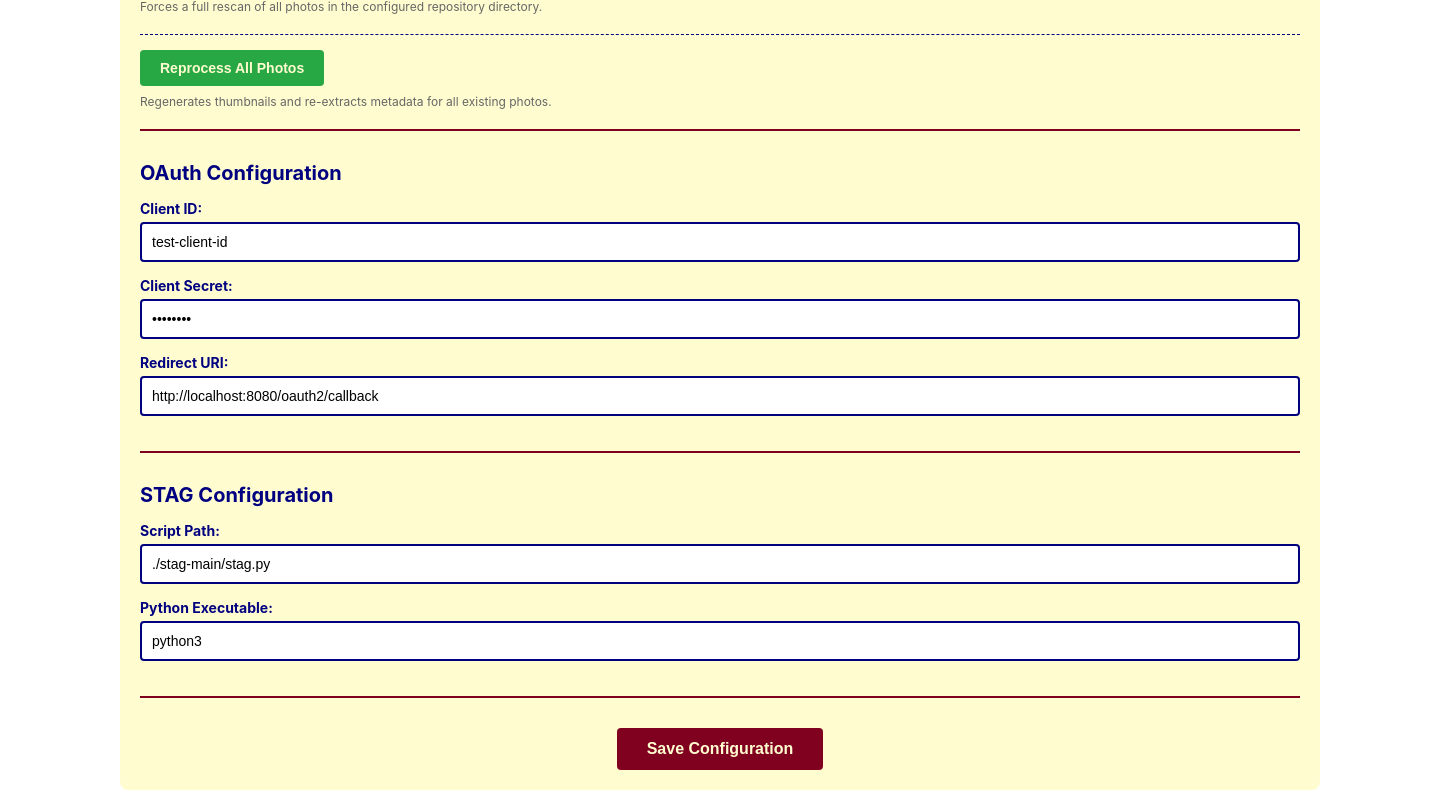
Test: Configuration Page › displays error message when save fails
This screenshot has width=1440, height=810.
(page scrolled)
Step 1. Click the button "Save Configuration" → (720, 749), box [617,728,823,770]
(page scrolled)
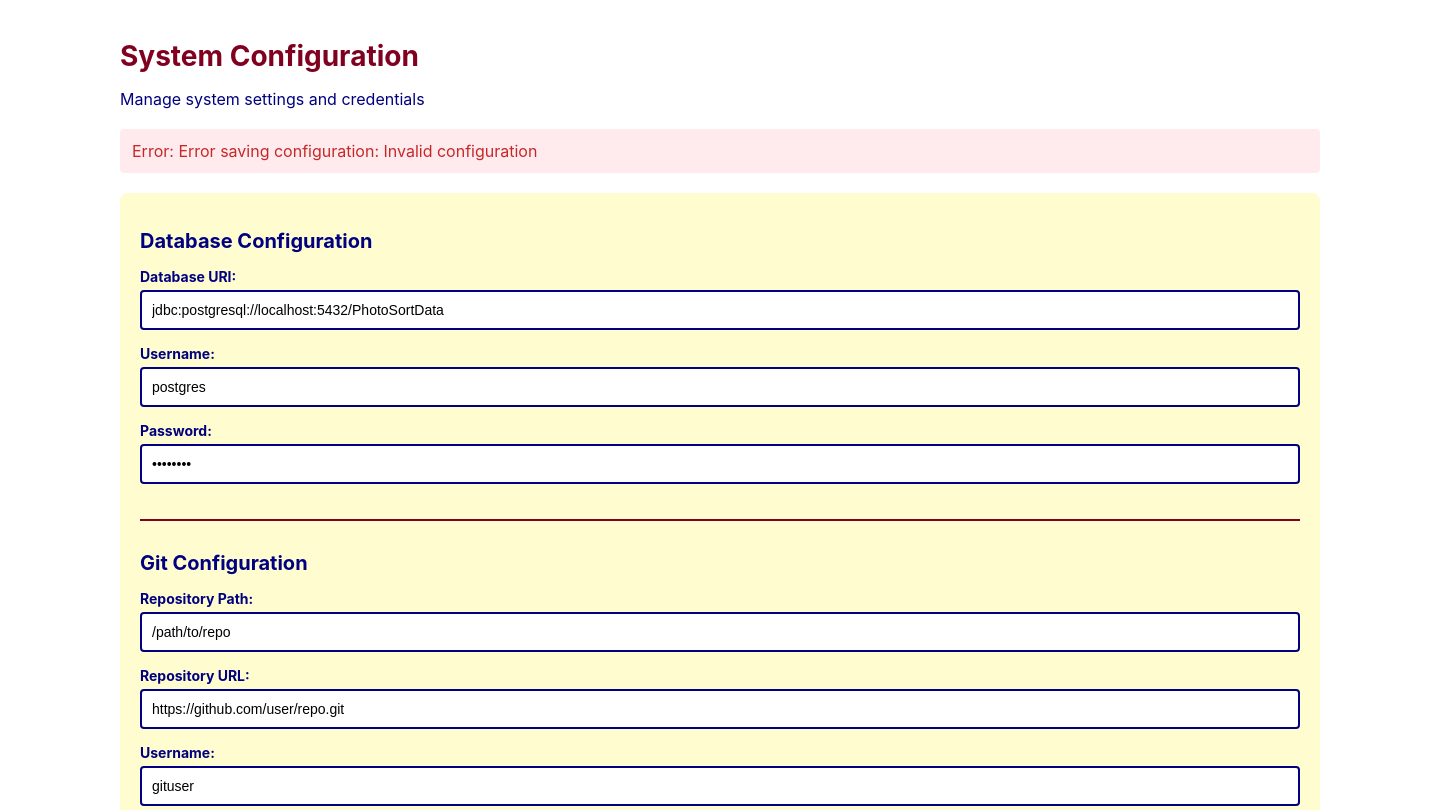
Expected: the text "Error: Error saving configuration: Invalid configuration" is shown, [120,129,1320,173]
